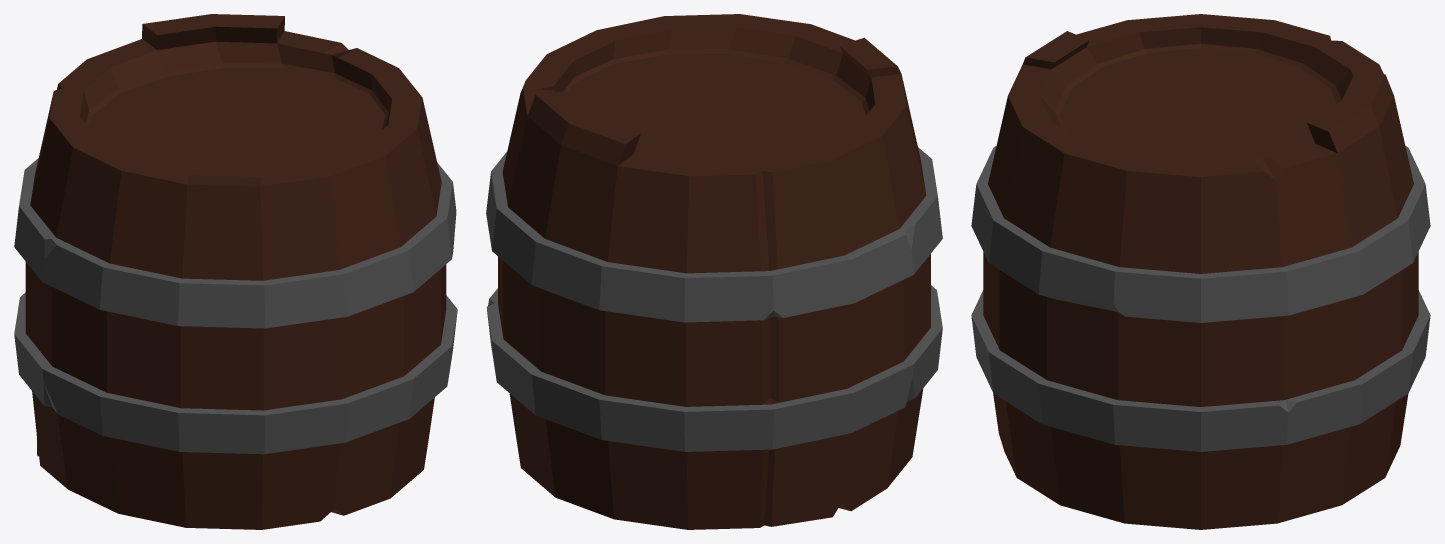
The model's file is bure.fbx.
3 renders of one model, left to right at view 1: azimuth 30°, elevation 25°; view 2: azimuth 150°, elevation 25°; view 3: azimuth 270°, elevation 25°, orthographic. The views are drawn at different scales.
Parts seen in each view (by area): view 1: odvojeno.001; view 2: odvojeno.001; view 3: odvojeno.001.
Boxes of the visible parts, x1,y1,x2,y2 form: odvojeno.001: (14, 14, 457, 529); odvojeno.001: (486, 14, 942, 529); odvojeno.001: (971, 14, 1430, 529).
Bounding box in the file's own units: 137 × 122 × 137.
